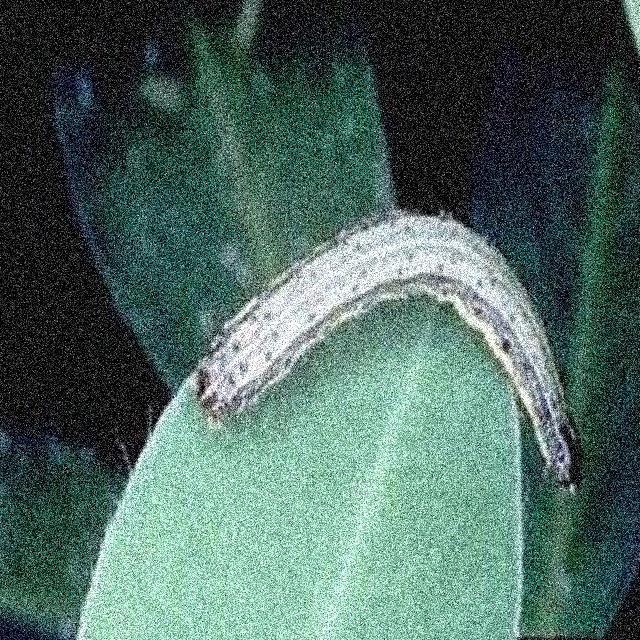gusano_cogollero: (192, 215, 584, 485)
